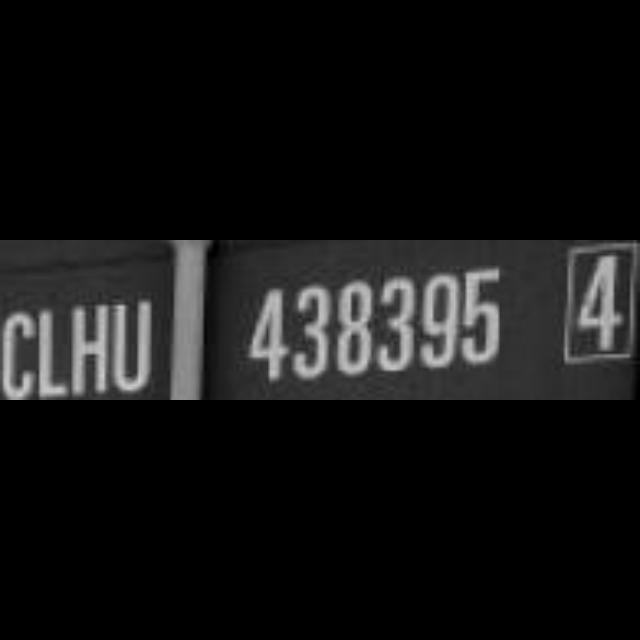3: (290, 280, 332, 384), (377, 273, 417, 373)
4: (568, 247, 634, 361), (246, 284, 288, 384)
5: (462, 266, 502, 368)
8: (334, 277, 374, 379)
9: (421, 270, 461, 370)
c: (0, 310, 36, 400)
h: (70, 300, 108, 400)
l: (38, 307, 68, 398)
u: (114, 297, 154, 397)
